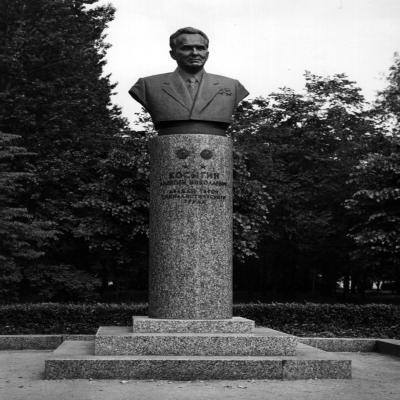sculpture: (41, 28, 352, 382)
